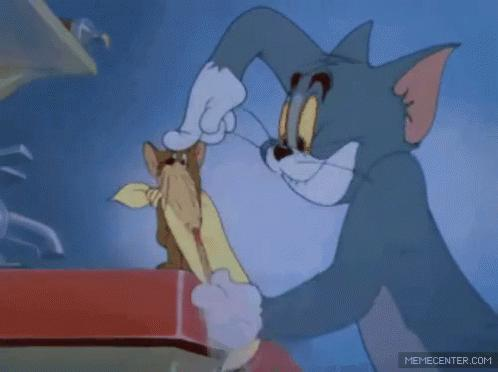jerry: (142, 139, 213, 274)
